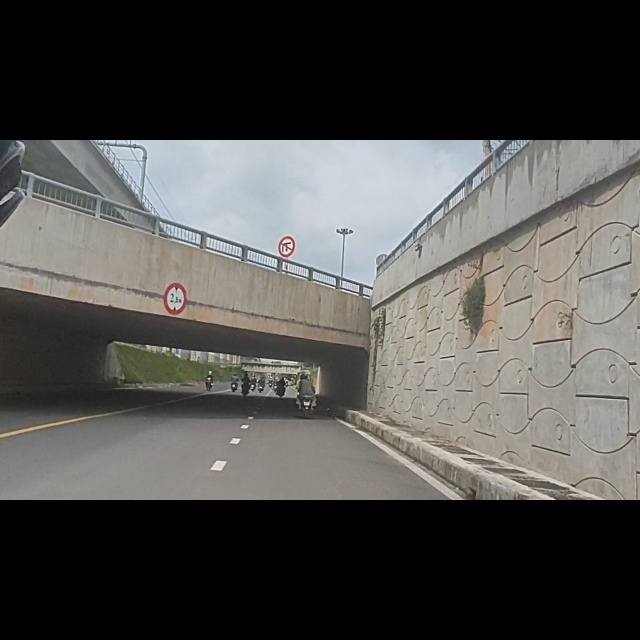bien_cam: (161, 251, 189, 314), (278, 169, 297, 210)
